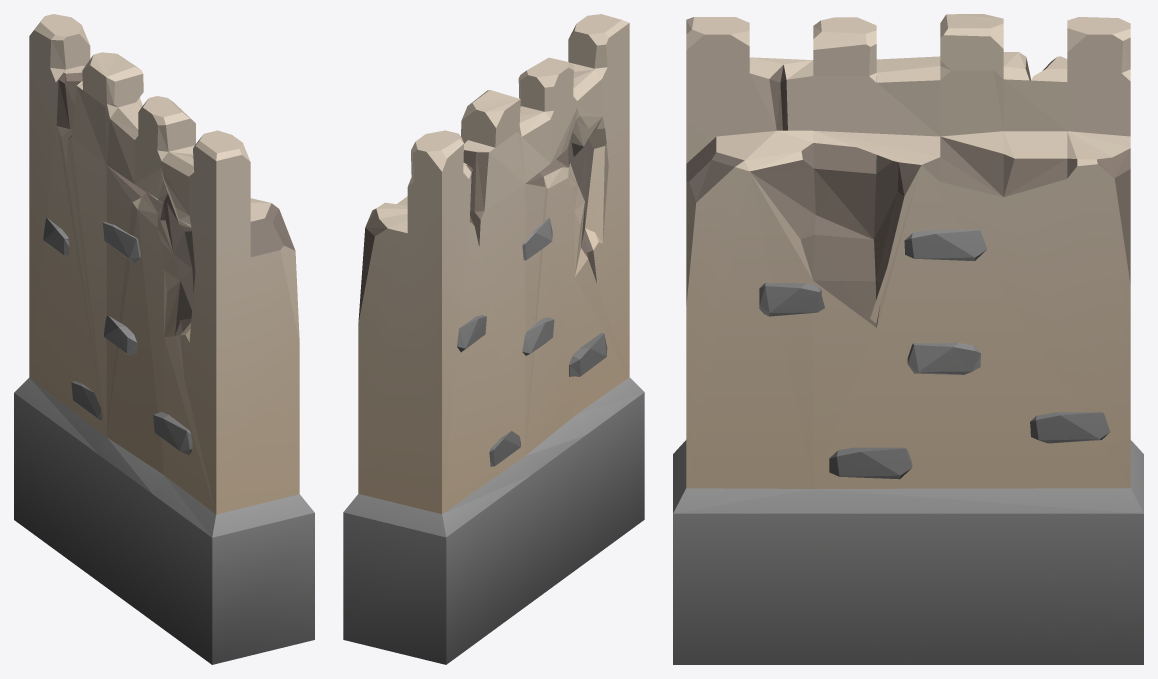
Rendered from damagedfortwall1.glb.
3 renders of one model, left to right at view 1: azimuth 30°, elevation 25°; view 2: azimuth 150°, elevation 25°; view 3: azimuth 270°, elevation 25°, orthographic. The views are drawn at different scales.
Parts seen in each view (by area): view 1: DamagedFortWall1_mesh1; view 2: DamagedFortWall1_mesh1; view 3: DamagedFortWall1_mesh1.
Boxes of the visible parts, left/top/right/bottom form: DamagedFortWall1_mesh1: left=14, top=14, right=314, bottom=664; DamagedFortWall1_mesh1: left=343, top=14, right=644, bottom=664; DamagedFortWall1_mesh1: left=673, top=14, right=1143, bottom=664.
Size of the model in its own units: 1.67 by 7.75 by 5.52.
Materials: 1 (1 with a texture image).
